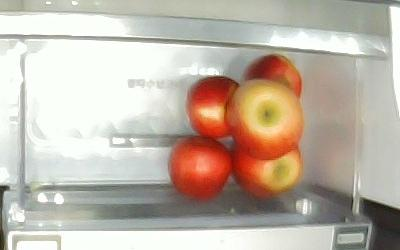apple: (225, 78, 303, 161), (231, 139, 302, 199), (168, 136, 232, 200), (186, 76, 239, 140), (246, 54, 303, 97)
